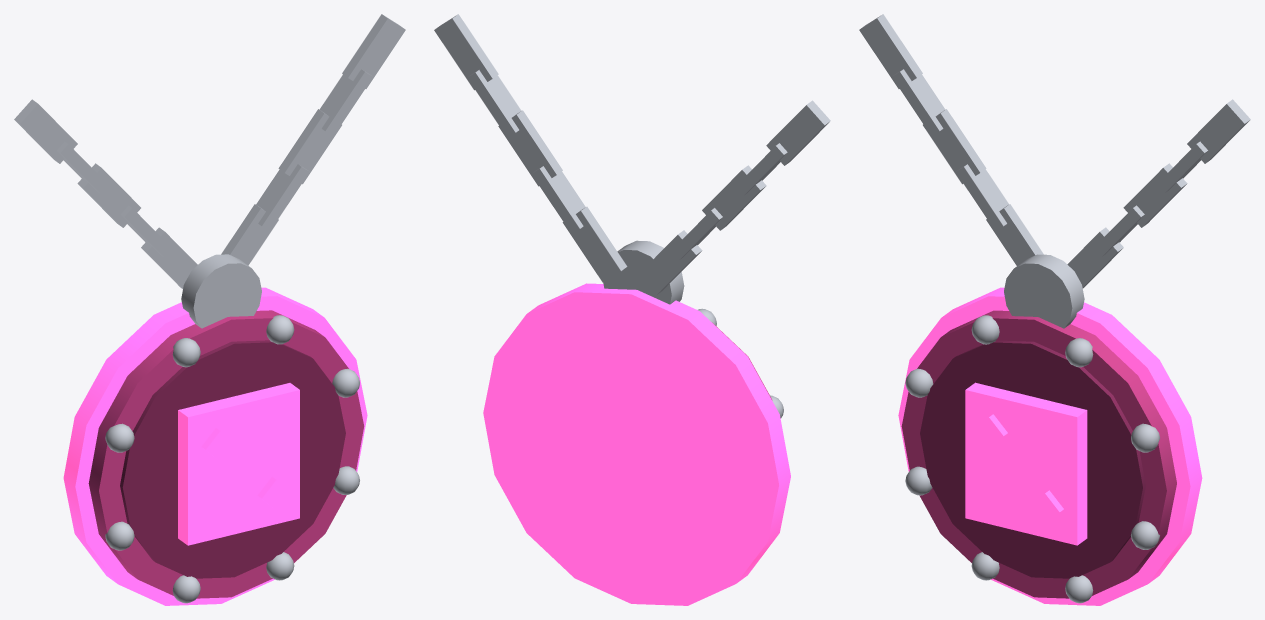
The picture shows the model from 3 angles, left to right: view 1: azimuth 30°, elevation 25°; view 2: azimuth 150°, elevation 25°; view 3: azimuth 330°, elevation 25°; orthographic projection.
Parts seen in each view (by area): view 1: rank-bipolar-e; view 2: rank-bipolar-e; view 3: rank-bipolar-e.
Part boxes in pixels (x1=…): rank-bipolar-e: x1=14, y1=14, x2=405, y2=605; rank-bipolar-e: x1=434, y1=14, x2=830, y2=605; rank-bipolar-e: x1=859, y1=14, x2=1250, y2=605.
Bounding box in the file's own units: 0.2333 × 0.3103 × 0.0472.
